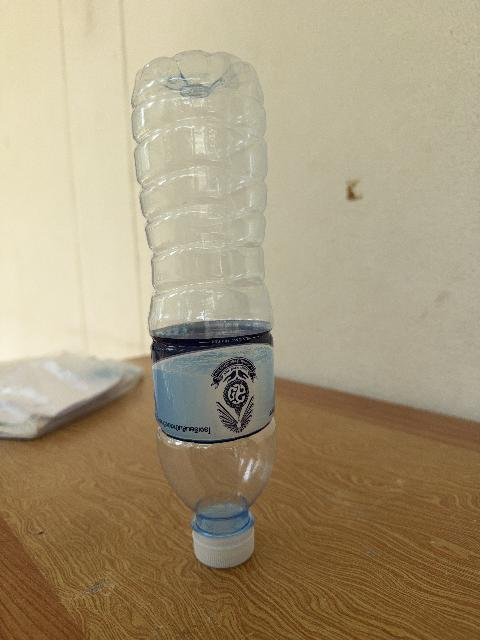bottle: (133, 51, 276, 567)
